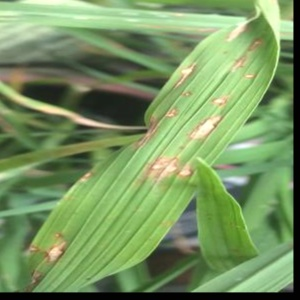Brown_Spot: (189, 108, 231, 143), (171, 55, 204, 91), (41, 229, 70, 264), (221, 17, 255, 41), (206, 86, 235, 114), (163, 96, 189, 124), (226, 48, 250, 73), (177, 82, 203, 105), (179, 159, 197, 187), (144, 154, 166, 176), (235, 66, 260, 85), (244, 32, 264, 52), (163, 156, 180, 176)
